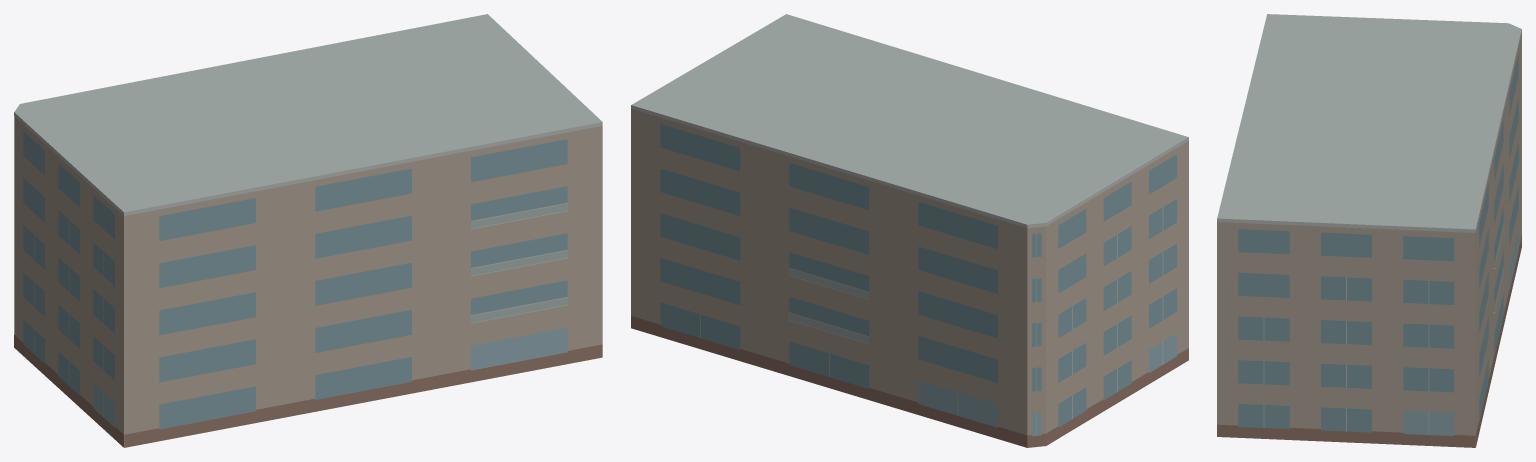
The model's file is survey-upis-32947559.glb.
The picture shows the model from 3 angles, left to right: view 1: azimuth 30°, elevation 25°; view 2: azimuth 150°, elevation 25°; view 3: azimuth 270°, elevation 25°; orthographic projection. The views are drawn at different scales.
Parts seen in each view (by area): view 1: survey-upis-32947559.tmp; view 2: survey-upis-32947559.tmp; view 3: survey-upis-32947559.tmp.
Boxes of the visible parts, x1,y1,x2,y2 form: survey-upis-32947559.tmp: (14, 14, 602, 447); survey-upis-32947559.tmp: (631, 14, 1188, 447); survey-upis-32947559.tmp: (1217, 14, 1521, 447).
Size of the model in its own units: 31.75 by 15 by 18.98.
